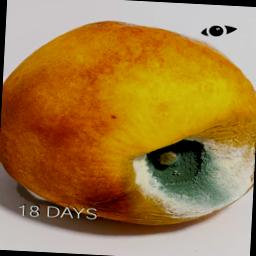Peach Rotten: (0, 10, 256, 230)
